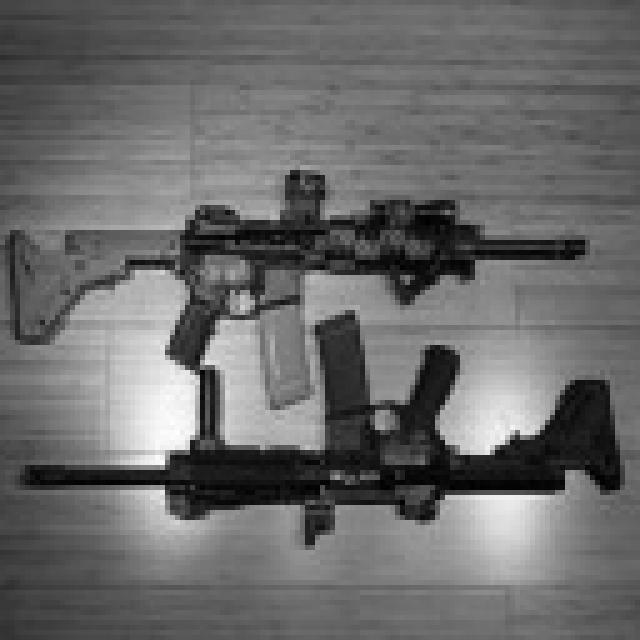Rifle: (0, 238, 640, 562), (0, 148, 609, 424)
